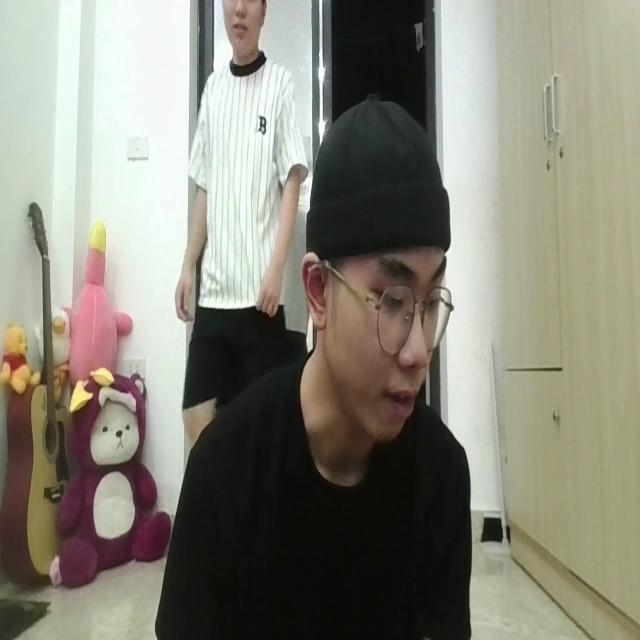extra_person: (172, 0, 307, 376)
student: (143, 95, 481, 640)
